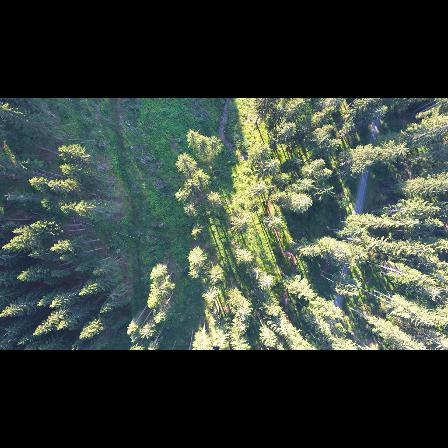Sick: (259, 274, 275, 290)
